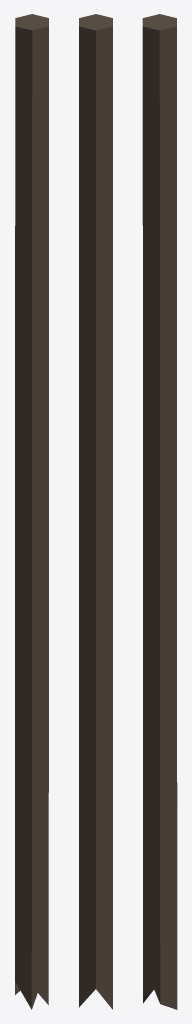
File: BroomStick.fbx
The picture shows the model from 3 angles, left to right: view 1: azimuth 90°, elevation 25°; view 2: azimuth 150°, elevation 25°; view 3: azimuth 270°, elevation 25°; orthographic projection.
Visible parts, largest first — view 1: Broom; view 2: Broom; view 3: Broom.
Part boxes in pixels (box(x1,y1,x2,y2)): Broom: box(15, 14, 48, 1009); Broom: box(79, 14, 112, 1009); Broom: box(142, 14, 177, 1009).
Size of the model in its own units: 36.56 by 32.02 by 1010.
